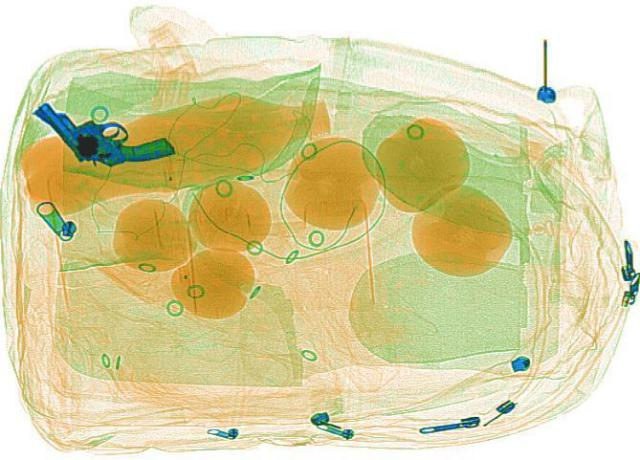Gun: (4, 84, 182, 189)
